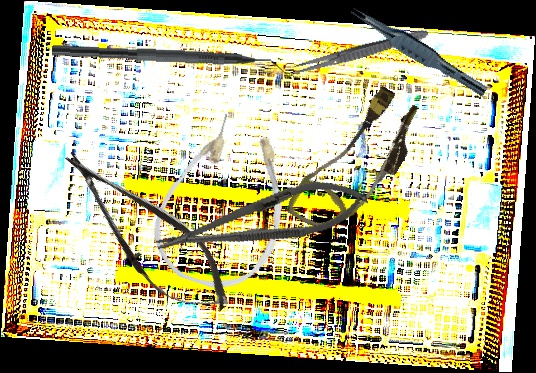Cannula: (141, 103, 310, 303), (284, 75, 431, 250)
Chopper: (51, 44, 290, 81)
Dressing Forceps: (288, 26, 430, 79)
Micro Scissor: (42, 130, 248, 335)
Needle Holder: (150, 169, 373, 270)
Tissue Forceps: (345, 3, 493, 98)
